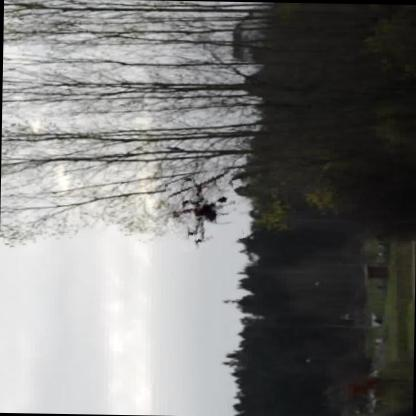drone: (167, 166, 242, 249)
